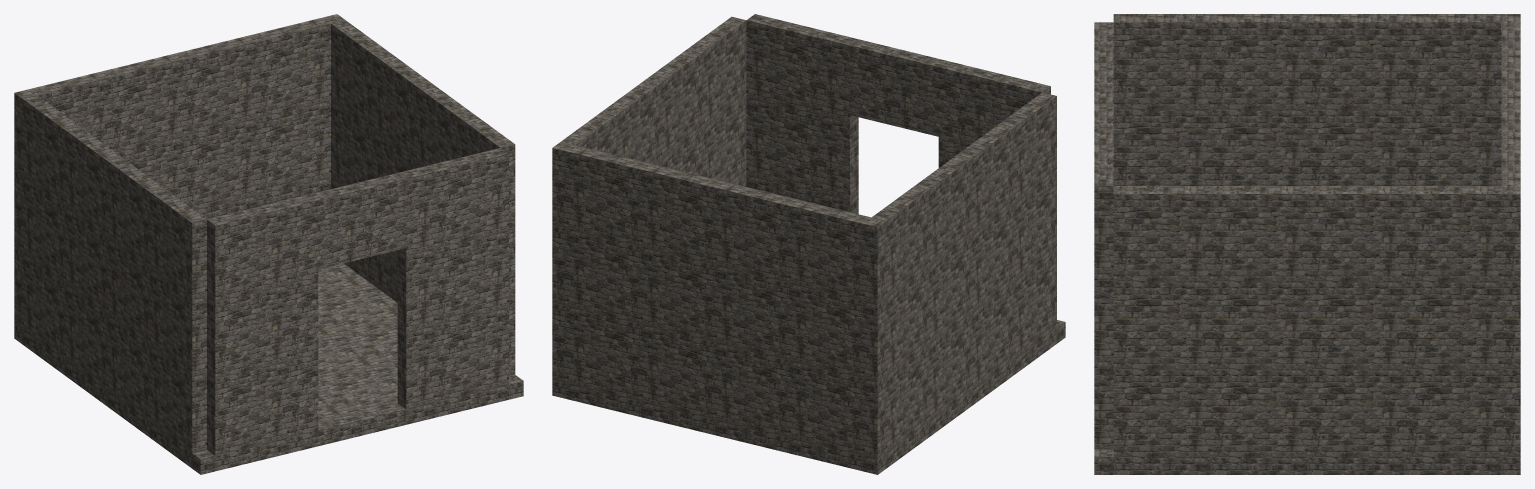
File: Square_Room_4m.glb
The picture shows the model from 3 angles, left to right: view 1: azimuth 30°, elevation 25°; view 2: azimuth 150°, elevation 25°; view 3: azimuth 270°, elevation 25°; orthographic projection. The views are drawn at different scales.
Visible parts, largest first — view 1: side, north, door_jamb, door_jamb.001, floor, side.001, door_lintel; view 2: north, side, door_jamb.001, side.001, floor, door_lintel, door_jamb; view 3: side.001, side, north, floor, door_jamb.001, door_jamb, door_lintel.
Part boxes in pixels (x1,y1,x2,y2): side: (22, 95, 206, 453); north: (14, 14, 345, 328); door_jamb: (207, 194, 318, 455); door_jamb.001: (397, 148, 508, 409); floor: (14, 263, 523, 474); side.001: (331, 20, 515, 375); door_lintel: (310, 173, 406, 269); north: (552, 141, 886, 459); side: (872, 92, 1056, 452); door_jamb.001: (746, 14, 858, 214); side.001: (561, 16, 746, 186); floor: (552, 320, 1065, 474); door_lintel: (850, 39, 946, 136); door_jamb: (938, 61, 1050, 167); side.001: (1113, 186, 1501, 457); side: (1113, 14, 1501, 185); north: (1501, 14, 1520, 457); floor: (1094, 449, 1520, 474); door_jamb.001: (1094, 128, 1113, 449); door_jamb: (1094, 22, 1113, 79); door_lintel: (1094, 79, 1113, 128).
Size of the model in its own units: 4.4 by 3.2 by 4.4.
1 material, 1 textured.
